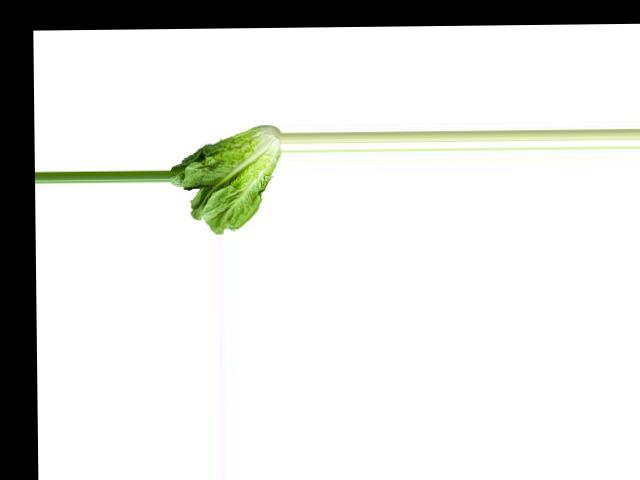lettuce: (172, 124, 281, 236)
